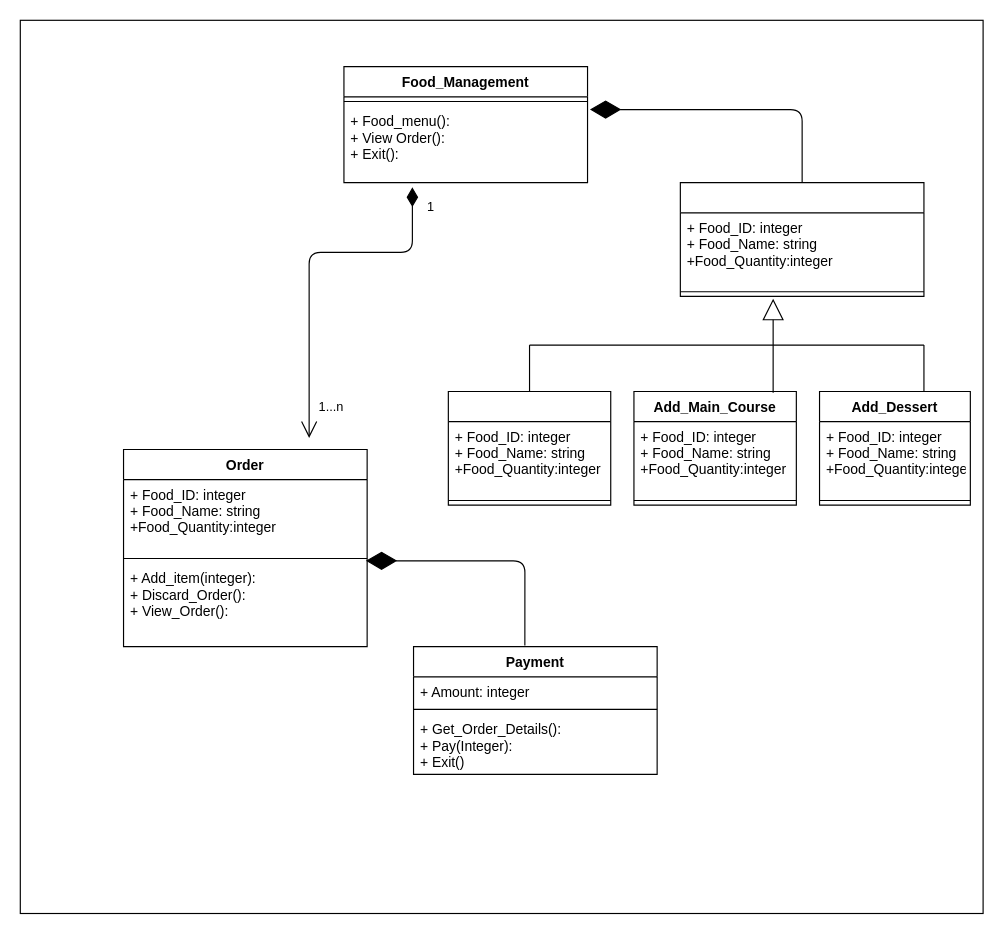
Image size: 1003x934. Some labels were removed from this diagram. Here are the shapes that lost their labels. From the top down, the box of each, then its label:
(679, 182, 924, 296): Add_Food_Items
(447, 390, 611, 505): Add_Snacks
